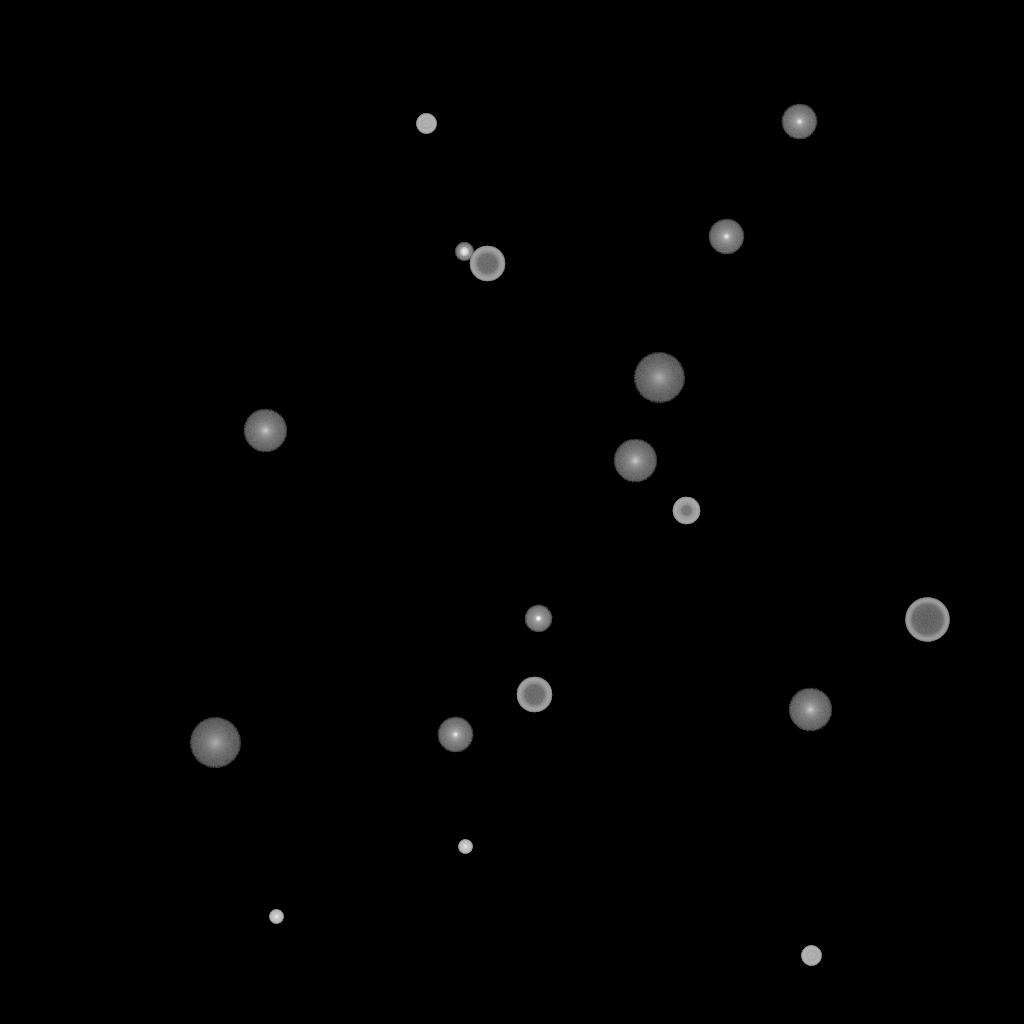depth:-10: (524, 605, 552, 633)
depth:-20: (455, 243, 473, 261)
depth:-30: (458, 840, 472, 854), (269, 910, 283, 924)
depth:-40: (416, 114, 436, 134), (801, 946, 821, 966)
depth:-50: (672, 497, 700, 525)
depth:-60: (516, 677, 552, 713), (469, 246, 505, 282)
depth:-70: (905, 598, 949, 642)
depth:0: (437, 717, 473, 753), (708, 219, 744, 255), (781, 104, 817, 140)
depth:10: (243, 409, 287, 453), (613, 439, 657, 483), (788, 688, 832, 732)
depth:20: (633, 353, 685, 403), (189, 718, 241, 768)
